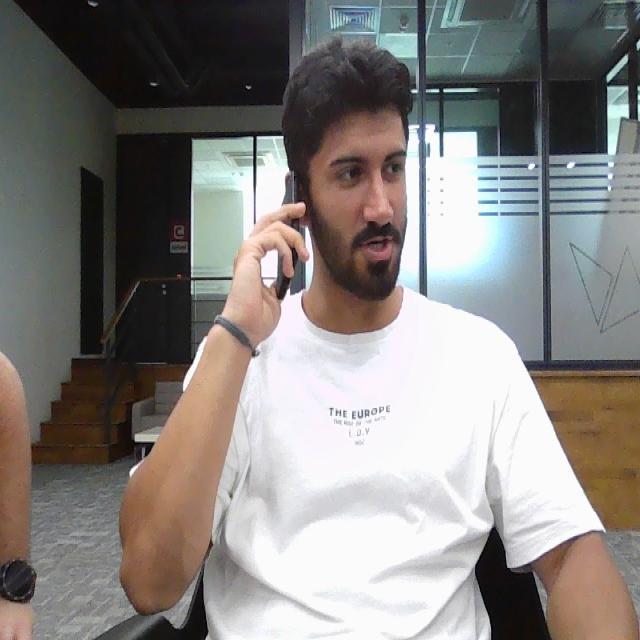phone: (273, 167, 301, 301)
